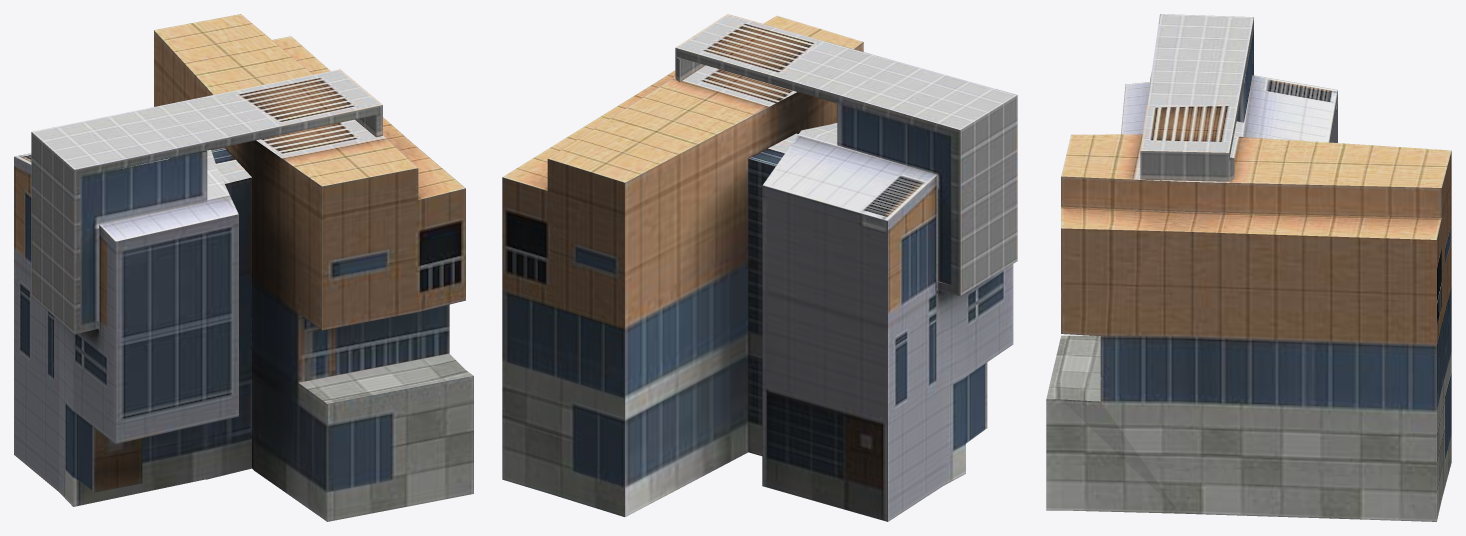
3 renders of one model, left to right at view 1: azimuth 30°, elevation 25°; view 2: azimuth 150°, elevation 25°; view 3: azimuth 270°, elevation 25°, orthographic. The views are drawn at different scales.
Visible parts, largest first — view 1: MainBuilding; view 2: MainBuilding; view 3: MainBuilding.
Boxes of the visible parts, box(x1,y1,x2,y2) form: MainBuilding: box(14, 14, 473, 521); MainBuilding: box(502, 14, 1017, 521); MainBuilding: box(1046, 14, 1451, 521).
Size of the model in its own units: 1.25 by 1.19 by 1.28.
Materials: 1 (1 with a texture image).
